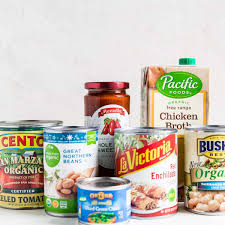can: (1, 115, 225, 225)
